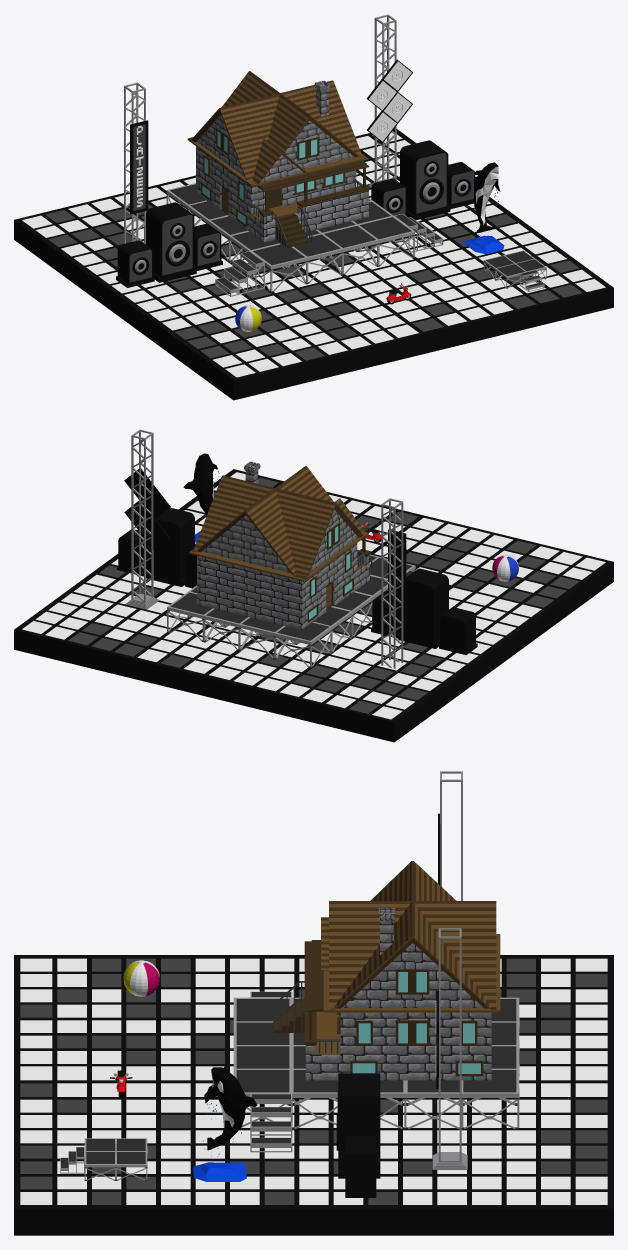
3 renders of one model, top to bottom at view 1: azimuth 30°, elevation 25°; view 2: azimuth 150°, elevation 25°; view 3: azimuth 270°, elevation 25°, orthographic. The views are drawn at different scales.
Visible parts, largest first — view 1: Cube.008, Cube.586, ANIMAL_ORCA, OBJRANDOM_BEACHBALL; view 2: Cube.008, Cube.586, ANIMAL_ORCA, OBJRANDOM_BEACHBALL; view 3: Cube.008, Cube.586, ANIMAL_ORCA, OBJRANDOM_BEACHBALL.
Part boxes in pixels (x1,y1,x2,y2): Cube.008: (14, 14, 613, 400); Cube.586: (187, 71, 371, 248); ANIMAL_ORCA: (462, 162, 504, 254); OBJRANDOM_BEACHBALL: (235, 305, 261, 331); Cube.008: (14, 429, 613, 742); Cube.586: (189, 461, 372, 629); ANIMAL_ORCA: (183, 453, 221, 542); OBJRANDOM_BEACHBALL: (492, 554, 518, 581); Cube.008: (14, 771, 613, 1235); Cube.586: (272, 861, 500, 1080); ANIMAL_ORCA: (193, 1066, 257, 1181); OBJRANDOM_BEACHBALL: (123, 960, 159, 996).
Size of the model in its own units: 4000 by 1972 by 4000.
Materials: 38 (2 with a texture image).
